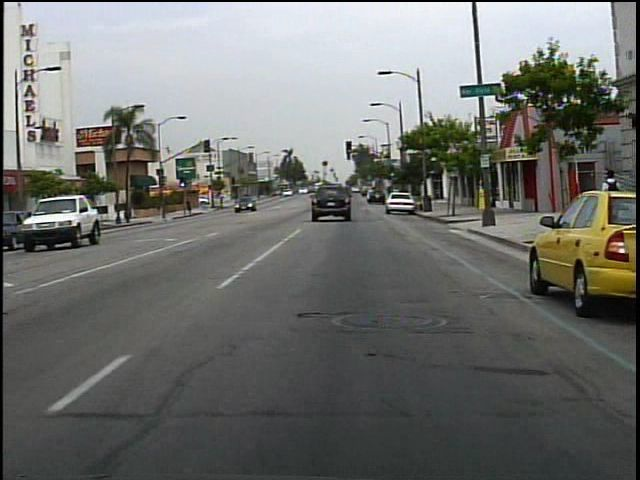person: (596, 162, 624, 209)
